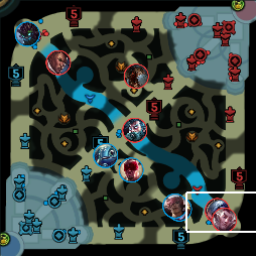ezreal: (169, 198, 192, 222)
fiddlesticks: (123, 63, 149, 88)
fizz: (93, 144, 118, 168)
leesin: (118, 157, 143, 183)
lucian: (44, 50, 71, 75)
maokai: (14, 22, 40, 47)
rakan: (212, 207, 236, 231)
sett: (161, 193, 187, 219)
tristana: (205, 198, 230, 222)
zilean: (122, 118, 147, 142)
